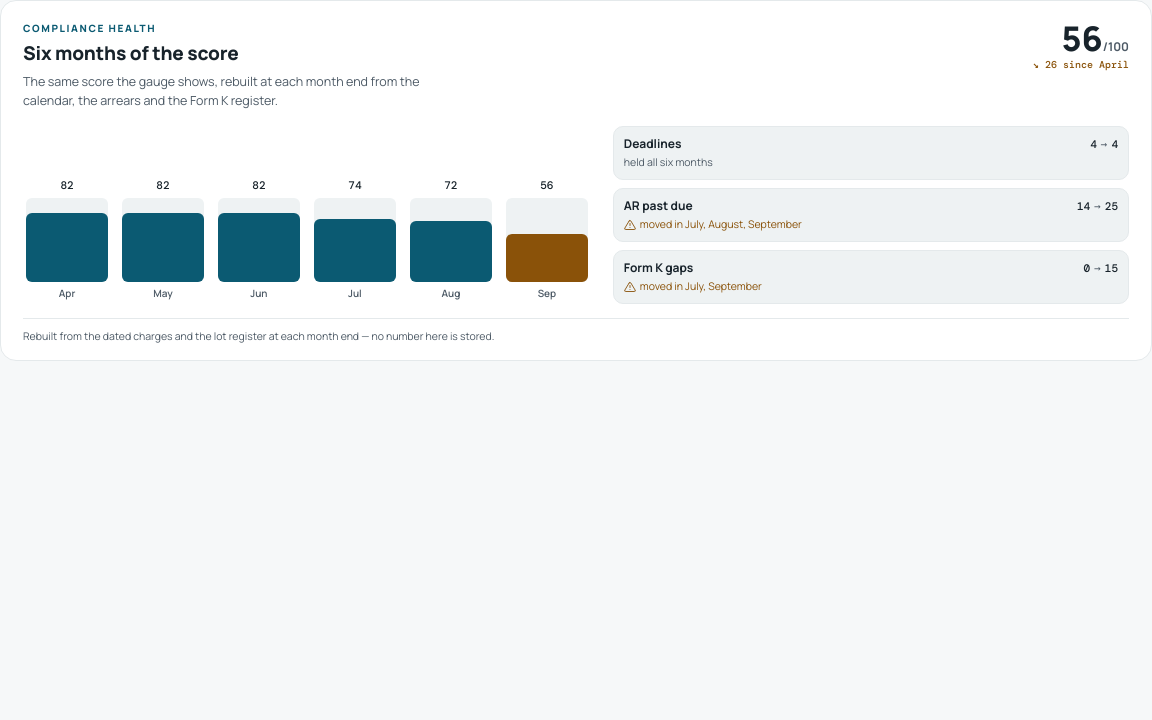
HealthTrend › says a quiet month was quiet instead of leaving it blank
Click the button with class "bar-button" showing "82 Apr": (67, 238) [23,172,111,304]
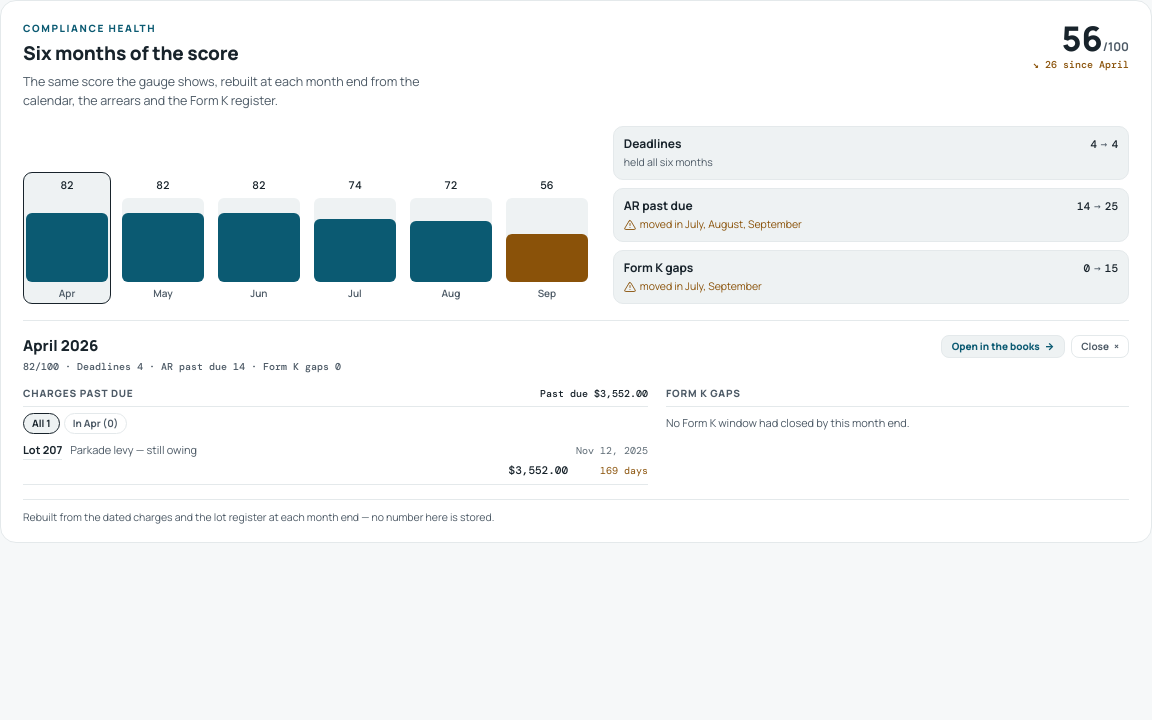
expect the element with class "trend-detail" shows "April": met, box [23,334,98,356]
expect the element with class "trend-detail" shows "No Form K window had closed by this month end.": met, box [666,415,910,430]
